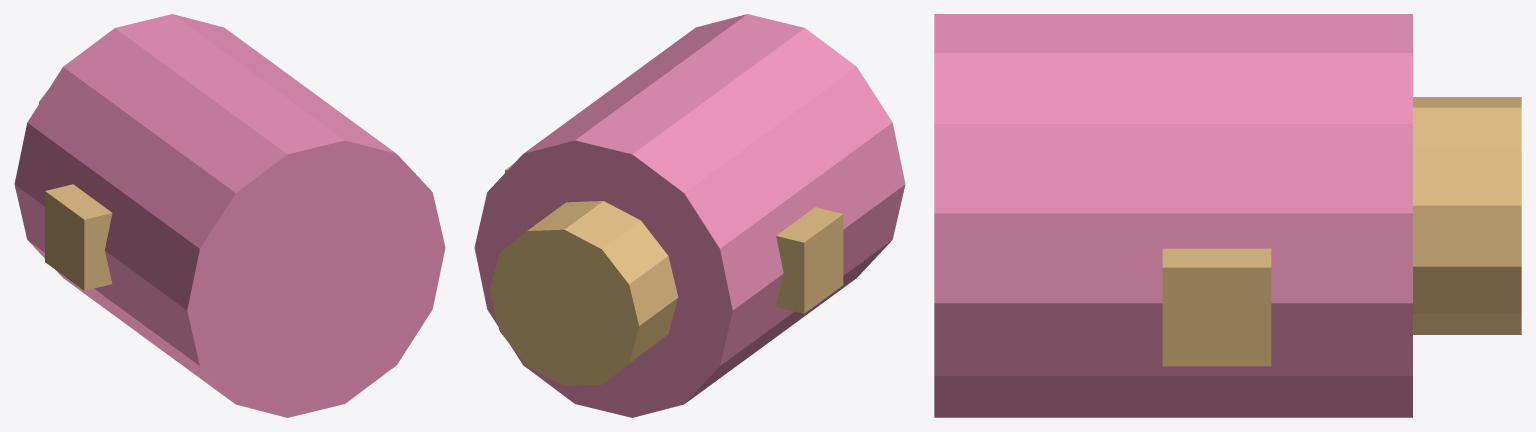
File: MuzzleBrake.obj
3 views of the same model, side by side, from view 1: azimuth 30°, elevation 25°; view 2: azimuth 150°, elevation 25°; view 3: azimuth 270°, elevation 25° (orthographic). The views are drawn at different scales.
Parts seen in each view (by area): view 1: MuzzleBrake_Body, MuzzleBrake_Detail; view 2: MuzzleBrake_Body, MuzzleBrake_Detail; view 3: MuzzleBrake_Body, MuzzleBrake_Detail.
Boxes of the visible parts, x1,y1,x2,y2 form: MuzzleBrake_Body: (14, 14, 445, 417); MuzzleBrake_Detail: (38, 89, 112, 290); MuzzleBrake_Body: (474, 14, 905, 417); MuzzleBrake_Detail: (489, 163, 843, 386); MuzzleBrake_Body: (934, 14, 1412, 417); MuzzleBrake_Detail: (1162, 97, 1521, 366).
Bounding box in the file's own units: 0.22 × 0.1852 × 0.27.
